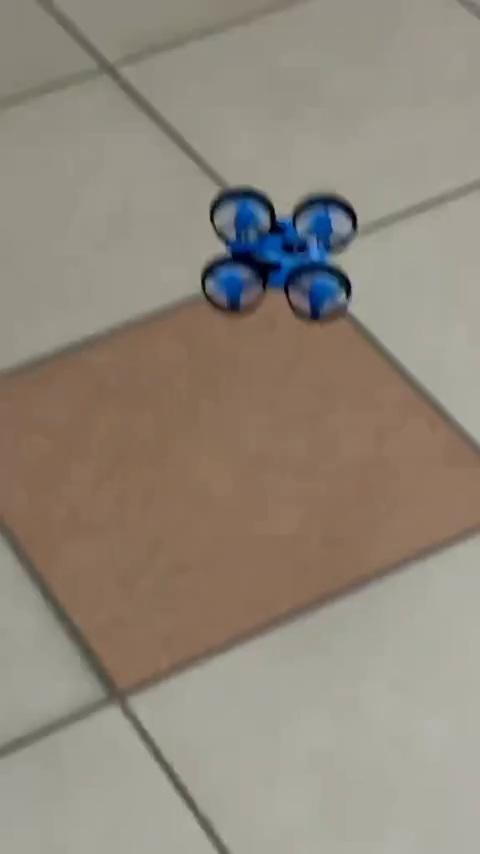drone: (204, 186, 355, 321)
